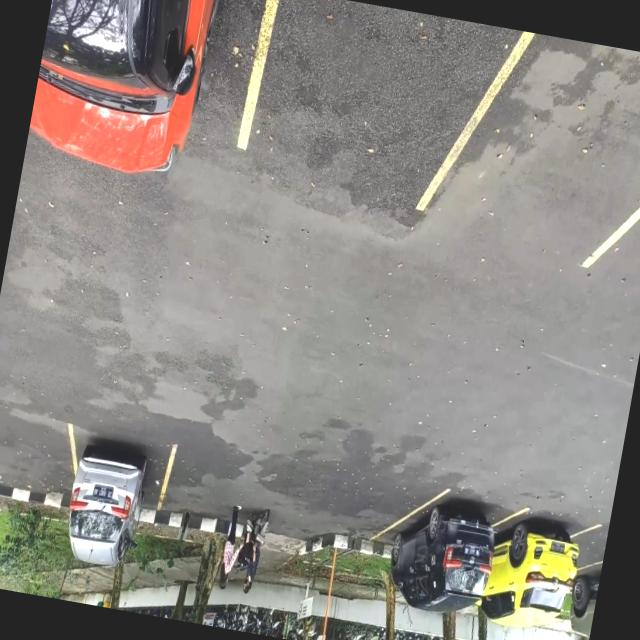car: (22, 0, 255, 202), (384, 482, 508, 616), (68, 434, 171, 544)
free: (230, 0, 506, 215), (455, 26, 640, 278)
